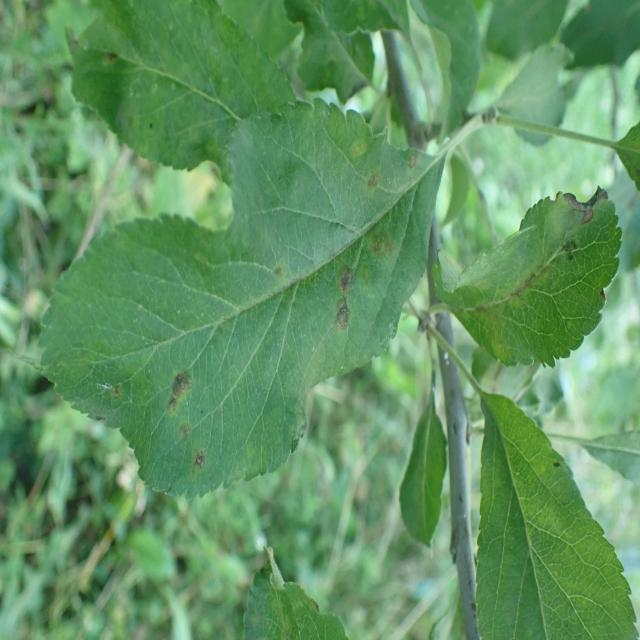scab: (55, 128, 422, 498), (448, 182, 640, 340)
